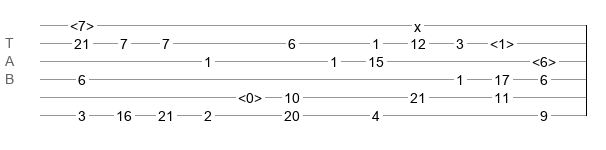1: (204, 54, 212, 64), (330, 54, 338, 64), (372, 36, 380, 46), (456, 72, 464, 82)
10: (284, 90, 300, 100)
11: (494, 90, 510, 100)
12: (410, 36, 426, 46)
15: (368, 54, 384, 64)
16: (116, 108, 132, 118)
17: (494, 72, 510, 82)
2: (204, 108, 212, 118)
20: (284, 108, 300, 118)
21: (74, 36, 90, 46), (158, 108, 174, 118), (410, 90, 426, 100)
3: (78, 108, 86, 118), (456, 36, 464, 46)
4: (372, 108, 380, 118)
6: (78, 72, 86, 82), (288, 36, 296, 46), (540, 72, 548, 82)
7: (120, 36, 128, 46), (162, 36, 170, 46)
9: (540, 108, 548, 118)
harmonic: (70, 18, 94, 28), (238, 90, 262, 100), (490, 36, 514, 46), (532, 54, 556, 64)
x: (414, 19, 421, 27)
